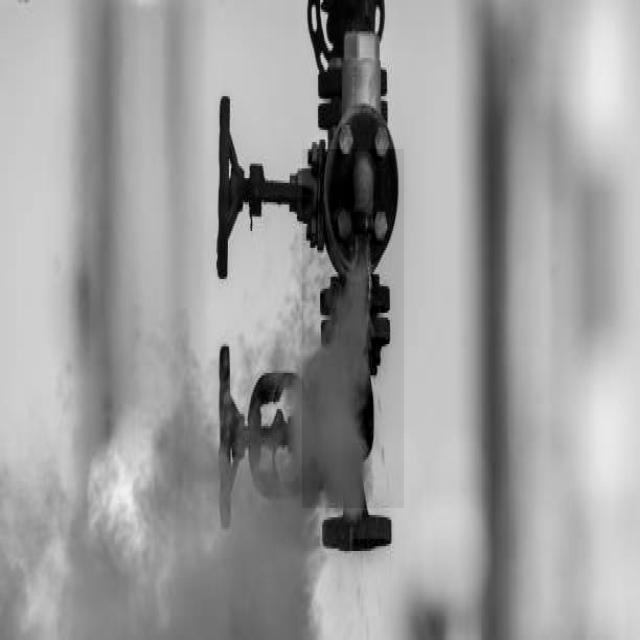corrosion: (300, 184, 408, 384)
